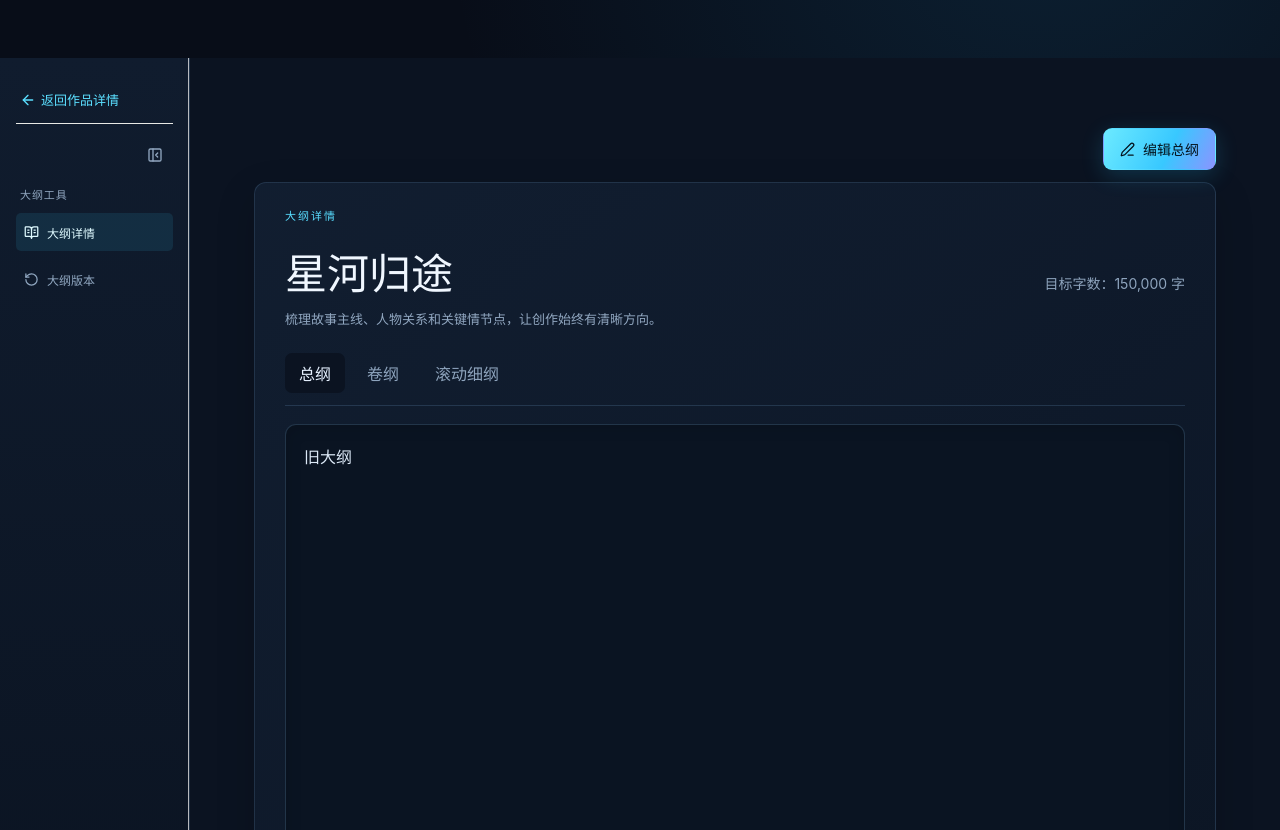
Test: 大纲详情页 › 已有卷纲默认只读，修改并保存后恢复只读状态
Click the tab "卷纲". click: (383, 373)
box: 353,353 -> 413,393
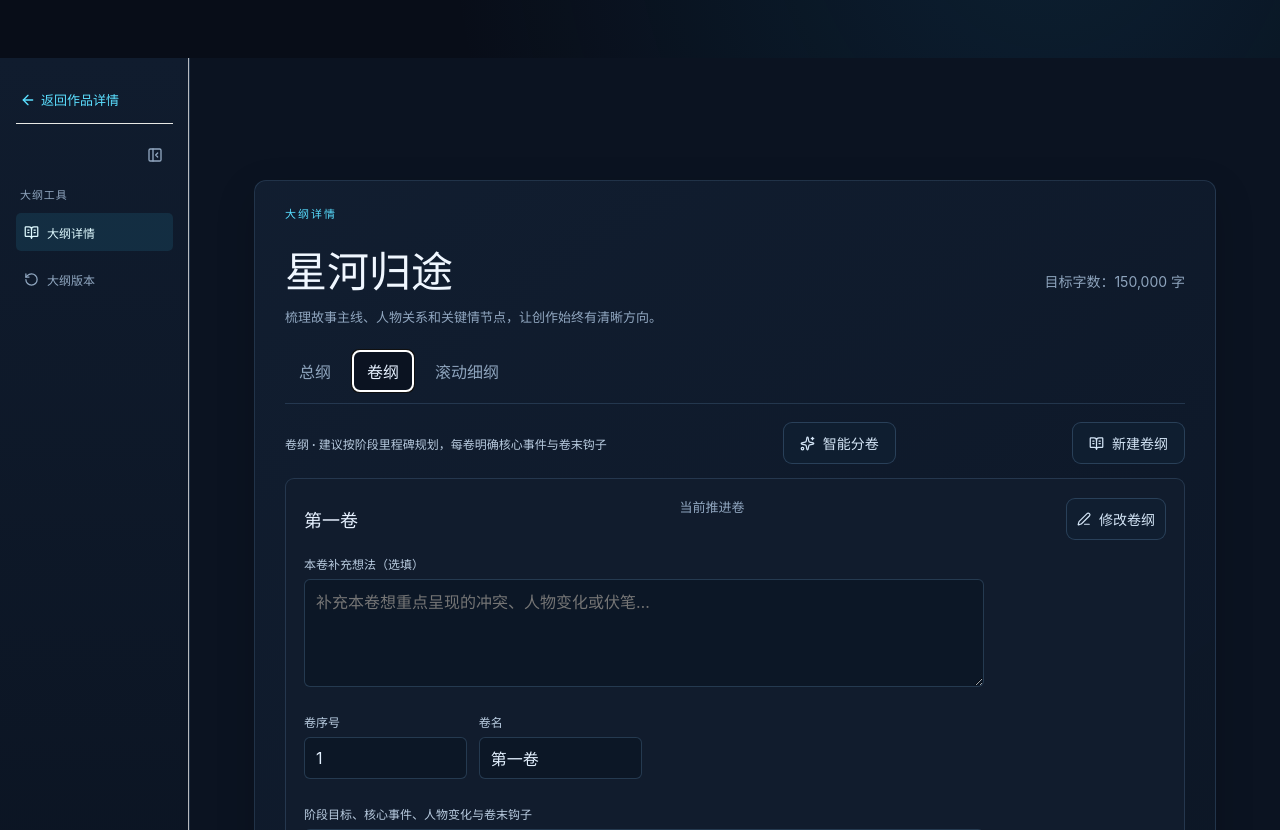
Check: the button "智能生成卷纲" is not shown
Check: the button "删除" is not shown
Click the button "修改卷纲". click: (1116, 519)
box: 1066,498 -> 1166,540
(page scrolled)
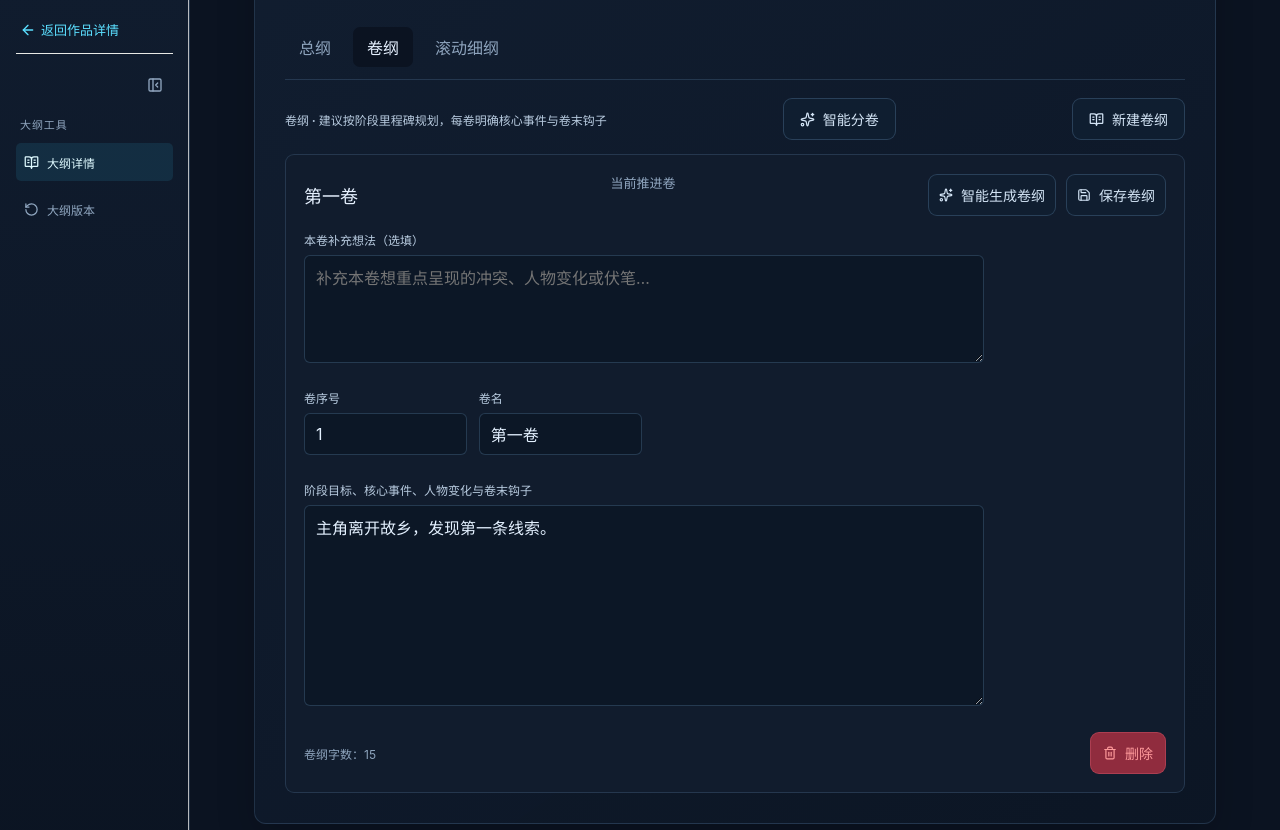
Check: the text box named "第一卷卷纲" is enabled
Check: the button "智能生成卷纲" is shown, box 928,174 -> 1056,216
Check: the button "修改卷纲" is gone
Replace the text in the text box named "第一卷卷纲" with "修改后的卷纲". click: (644, 606)
box: 304,505 -> 984,706
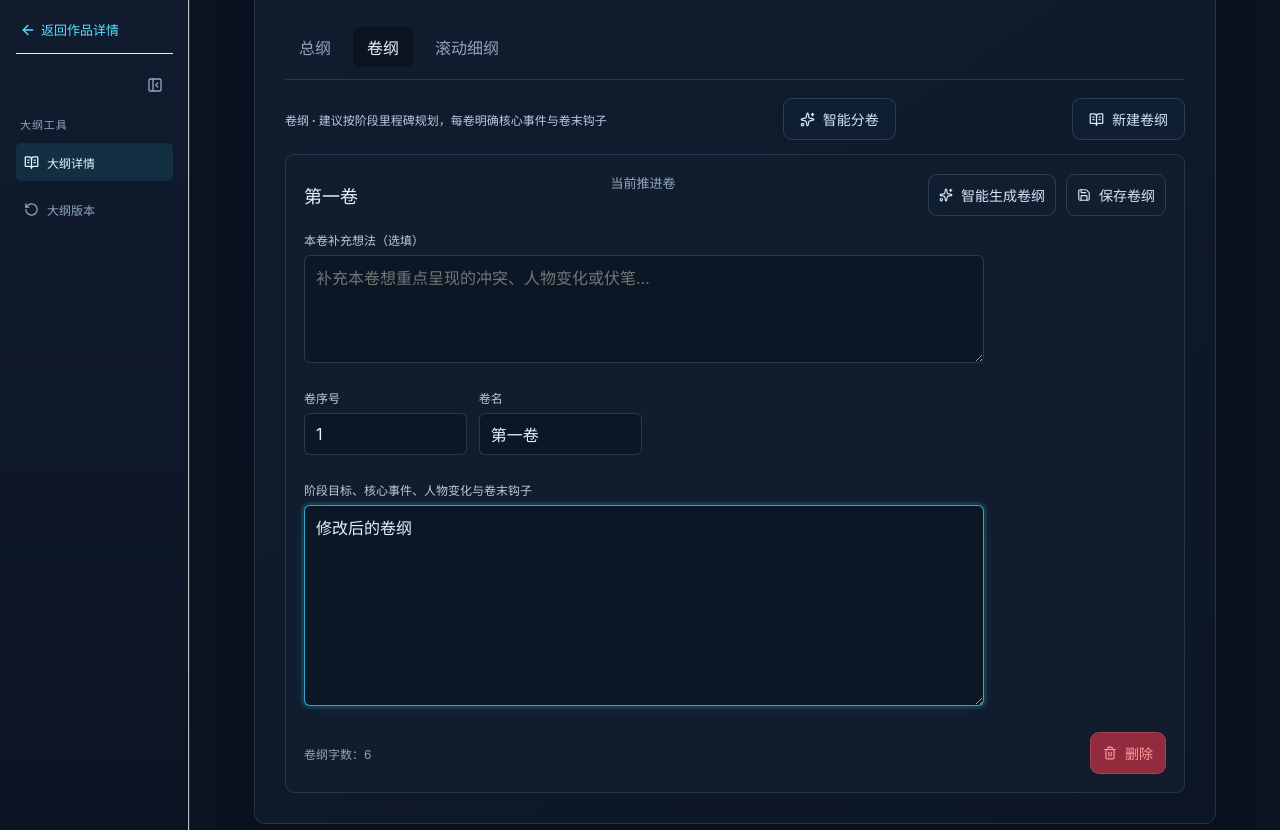
Click the button "保存卷纲". click: (1116, 195)
box: 1066,174 -> 1166,216
(page scrolled)
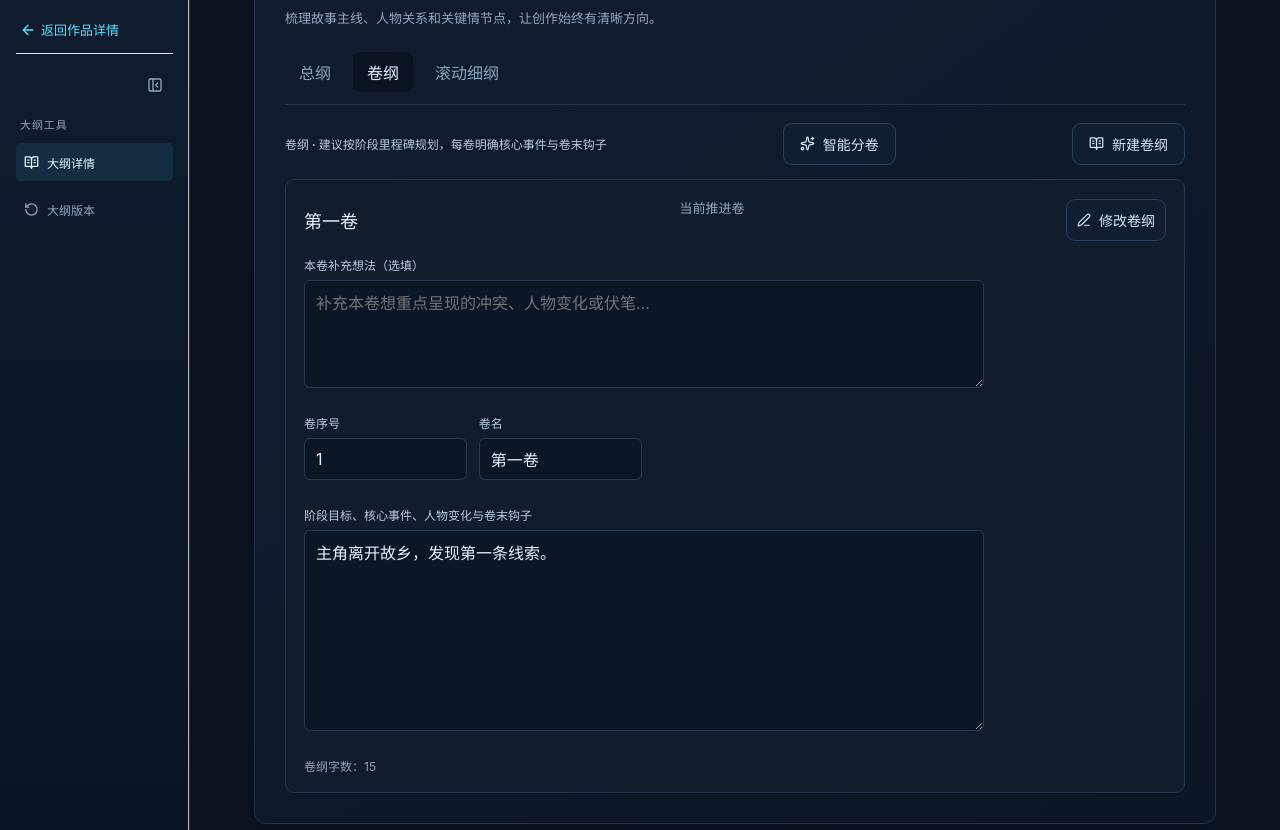
Check: the button "修改卷纲" is shown, box 1066,198 -> 1166,240
Check: the button "智能生成卷纲" is gone
Check: the button "删除" is gone
